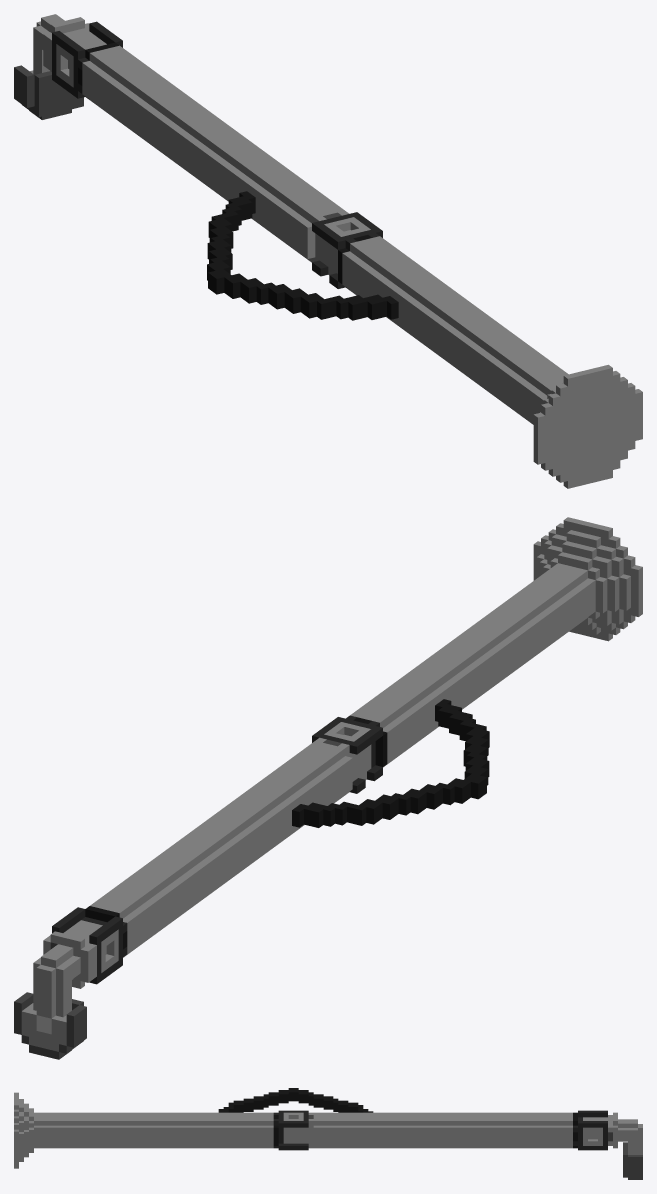
Rendered from Bot -5.obj.
The picture shows the model from 3 angles, top to bottom: view 1: azimuth 30°, elevation 25°; view 2: azimuth 150°, elevation 25°; view 3: azimuth 270°, elevation 25°; orthographic projection. The views are drawn at different scales.
Parts seen in each view (by area): view 1: Bot -5; view 2: Bot -5; view 3: Bot -5.
Boxes of the visible parts, <box> form: Bot -5: <box>14,14,642,488</box>; Bot -5: <box>14,517,642,1059</box>; Bot -5: <box>14,1088,642,1179</box>.
Size of the model in its own units: 25 by 17 by 126.
Materials: 1 (1 with a texture image).
